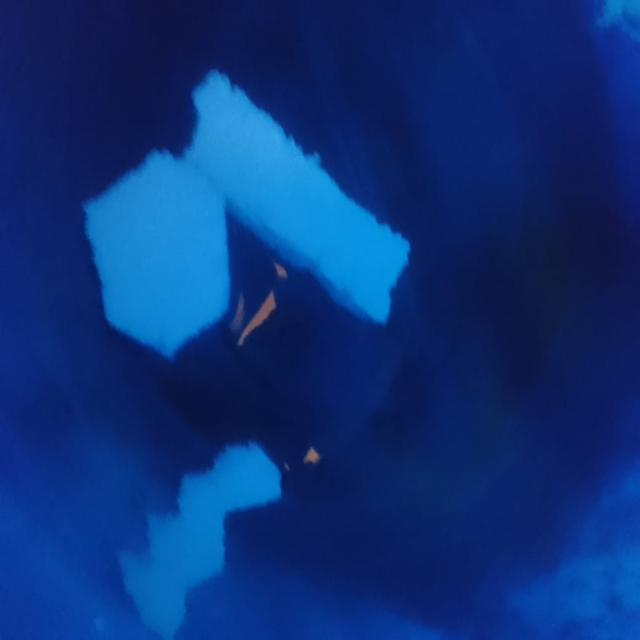litter: (176, 56, 416, 320)
